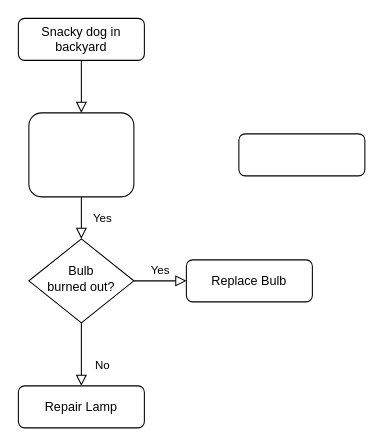
Image size: 383x446. Some labels were removed from this diagram. The box of each missing label's shape, as (x1, y1, x2, y2) in pixels:
Get the snacky!: (238, 133, 365, 176)
Sign appears: (28, 112, 134, 197)
